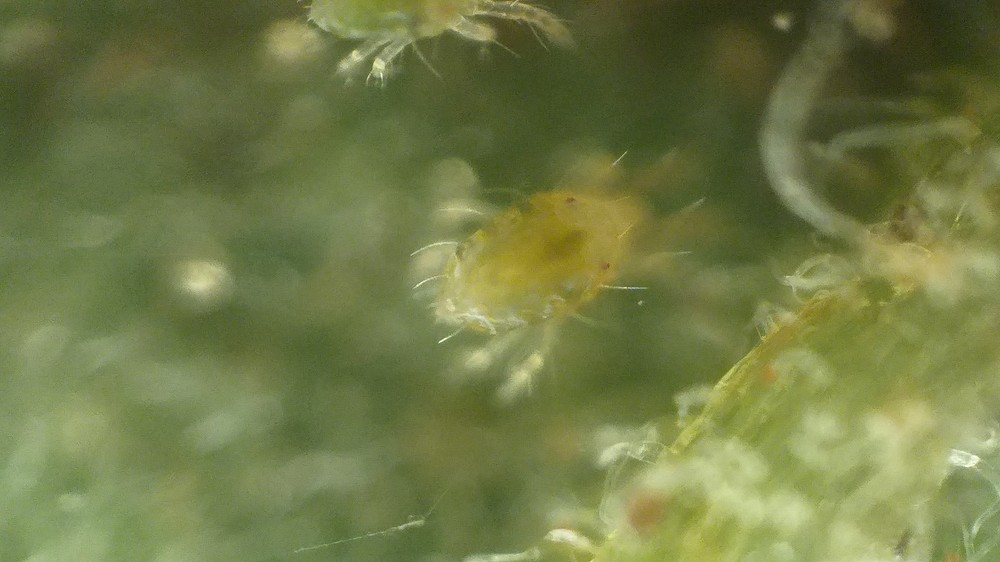Aracnido Rojo: (379, 142, 738, 392), (291, 1, 598, 90)
